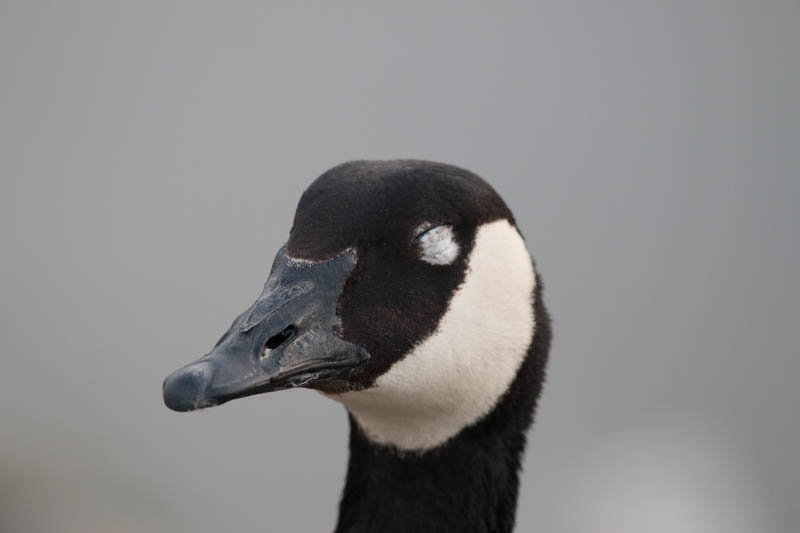goose-head: (161, 159, 553, 455)
